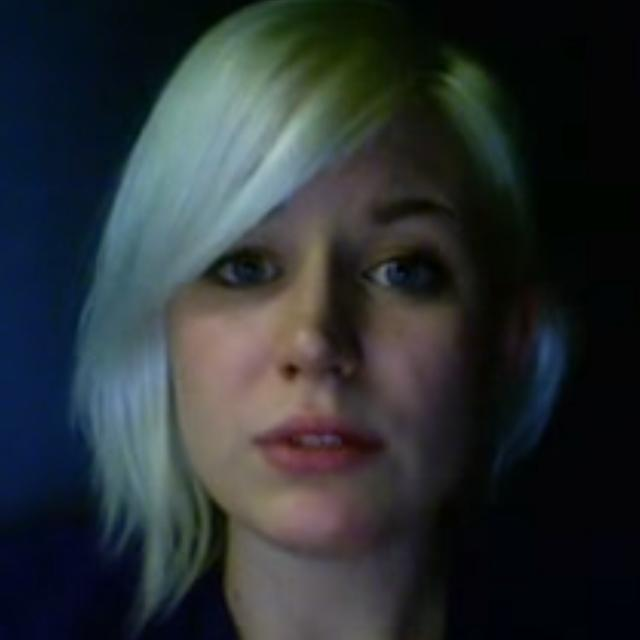Depress: (164, 87, 496, 555)
